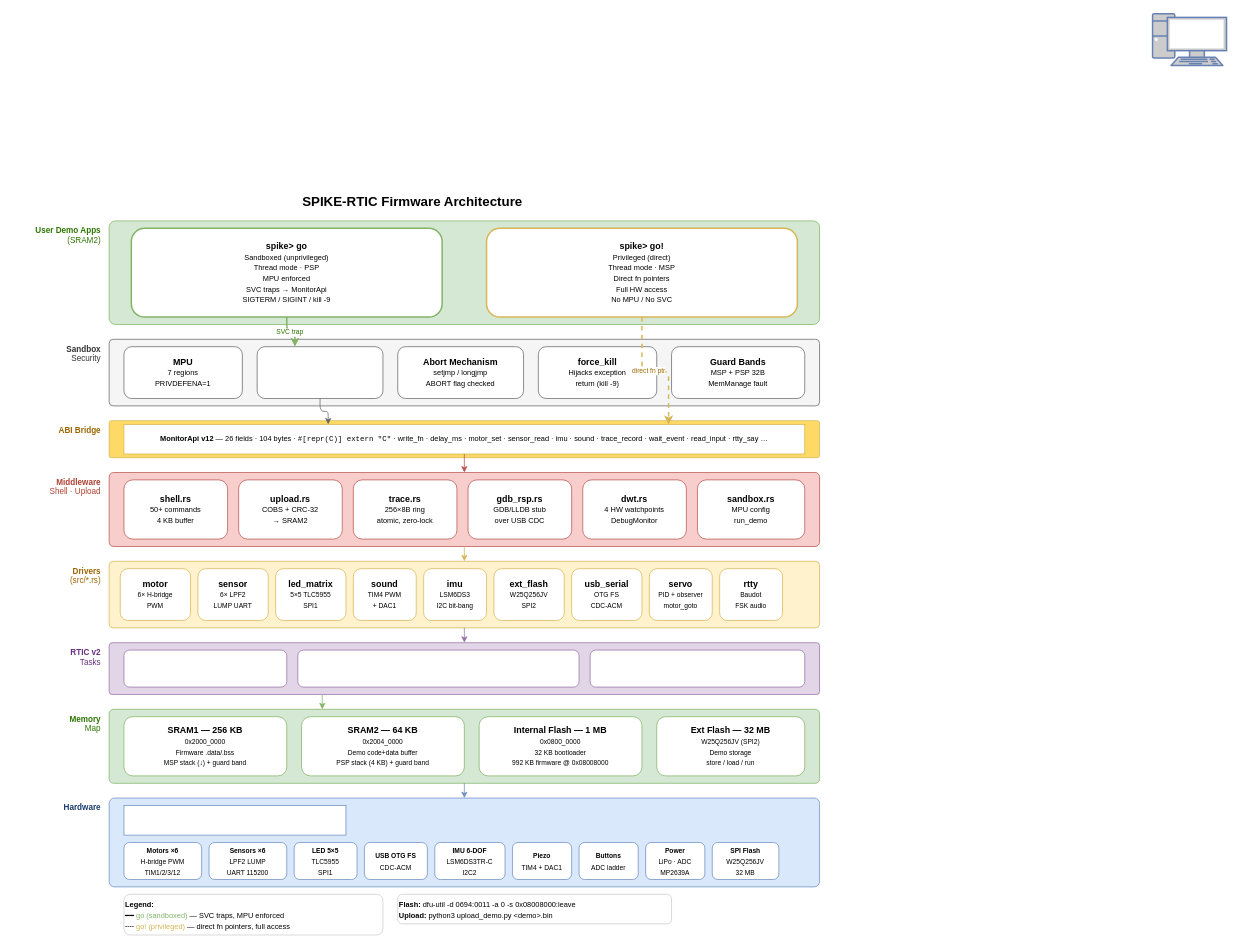
This 1240x948 diagram has some shape labels left out. The centre of each missing label's shape, as x and y in pixels:
"P1 run_demo · test_all" belongs at pixel 697 668.
"P2 heartbeat · sensor_poll · motor · shell · USB ISR" belongs at pixel 438 668.
"P3 UART ISR (sensor sync)" belongs at pixel 205 668.
"STM32F413VGT6 Cortex-M4F @ 96 MHz · FPU · MPU" belongs at pixel 234 820.
"SVC Dispatch Thunks for all MonitorApi calls" belongs at pixel 319 372.
